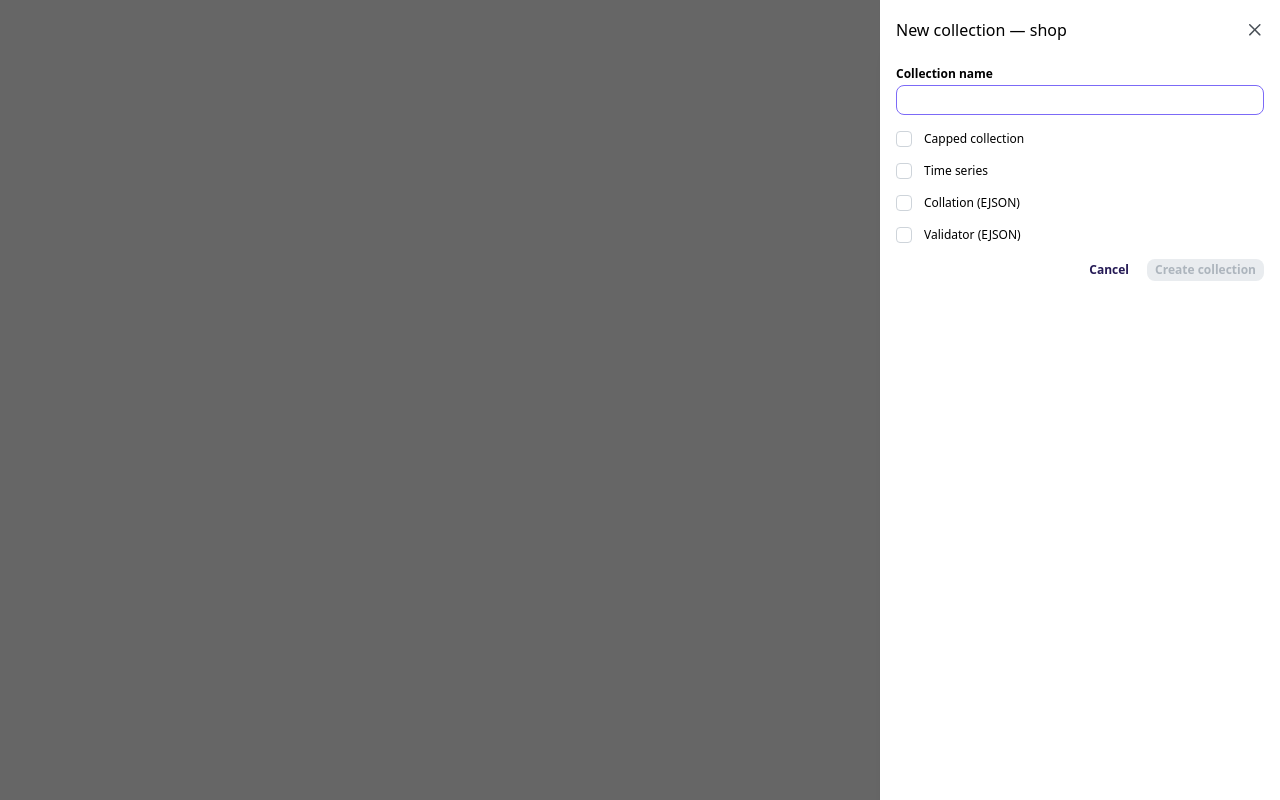
Test: CreateCollectionDrawer — unsaved-changes guard (X15 T4) › dirtying a field other than the first still prompts
The width and height of the screenshot is (1280, 800).
Click the checkbox labelled "Capped".
click(904, 139)  # box [896,131,912,147]
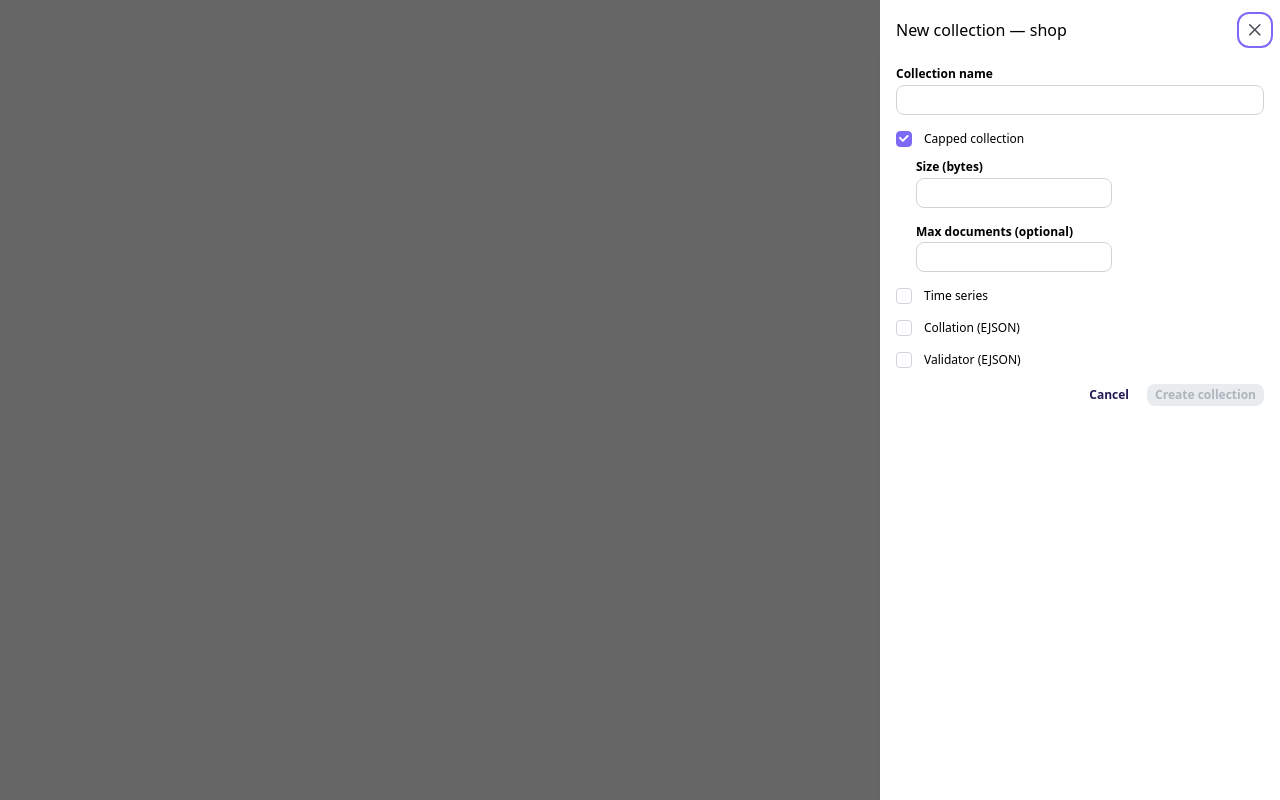
Type "100000" into the field named "Capped size (bytes)".
click(1014, 193); type("100000")  # box [916,178,1112,208]
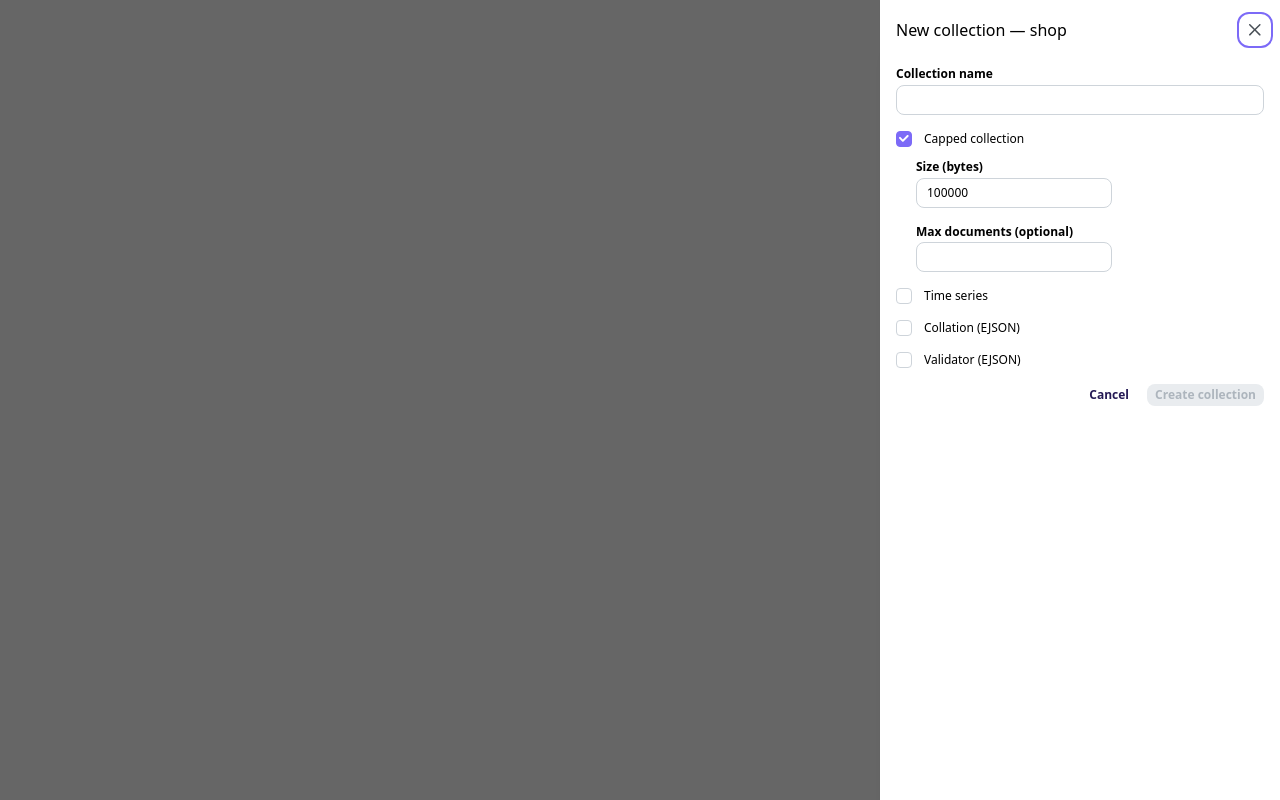
expect the field labelled "Collection name" is empty: met, box [896,85,1264,115]
Click the button "Cancel".
click(1109, 395)  # box [1081,384,1137,406]
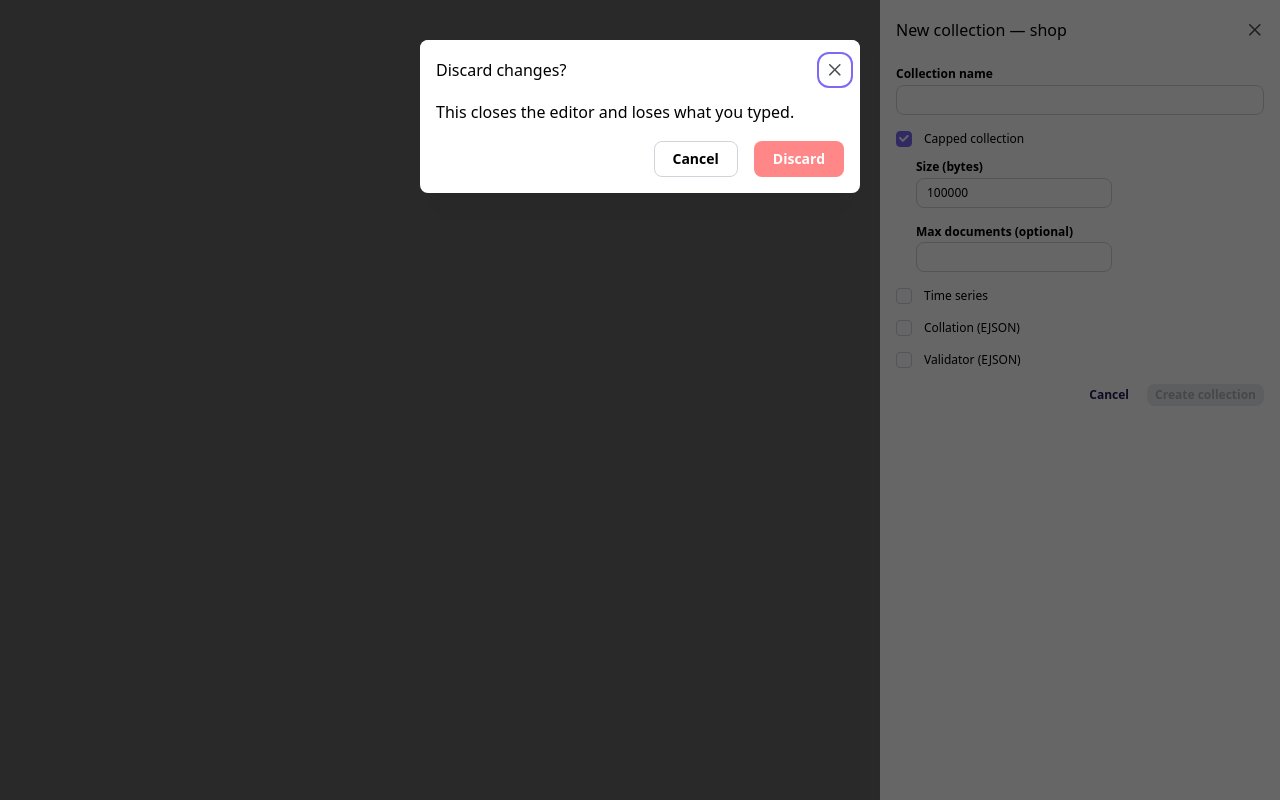
Click the button "Cancel".
click(696, 159)  # box [654,141,738,177]
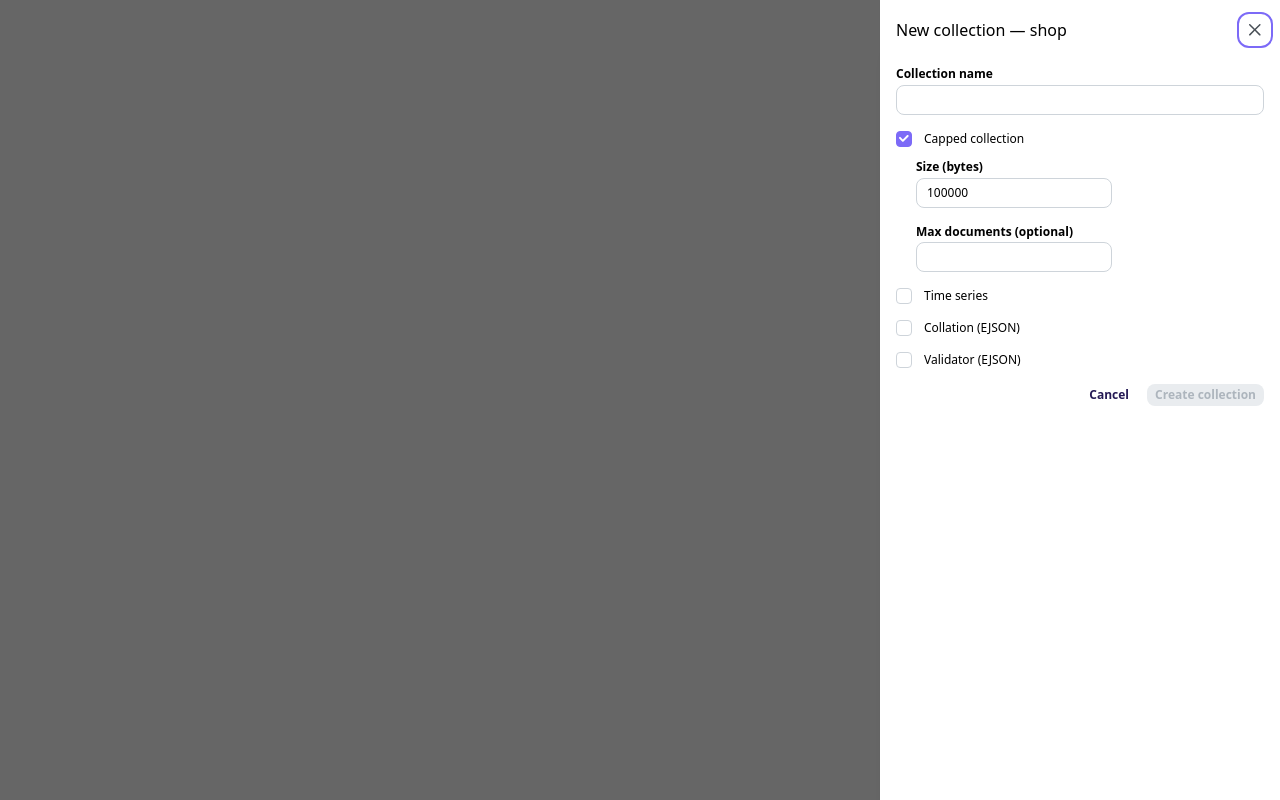
expect the heading "Discard changes?" is gone: met
